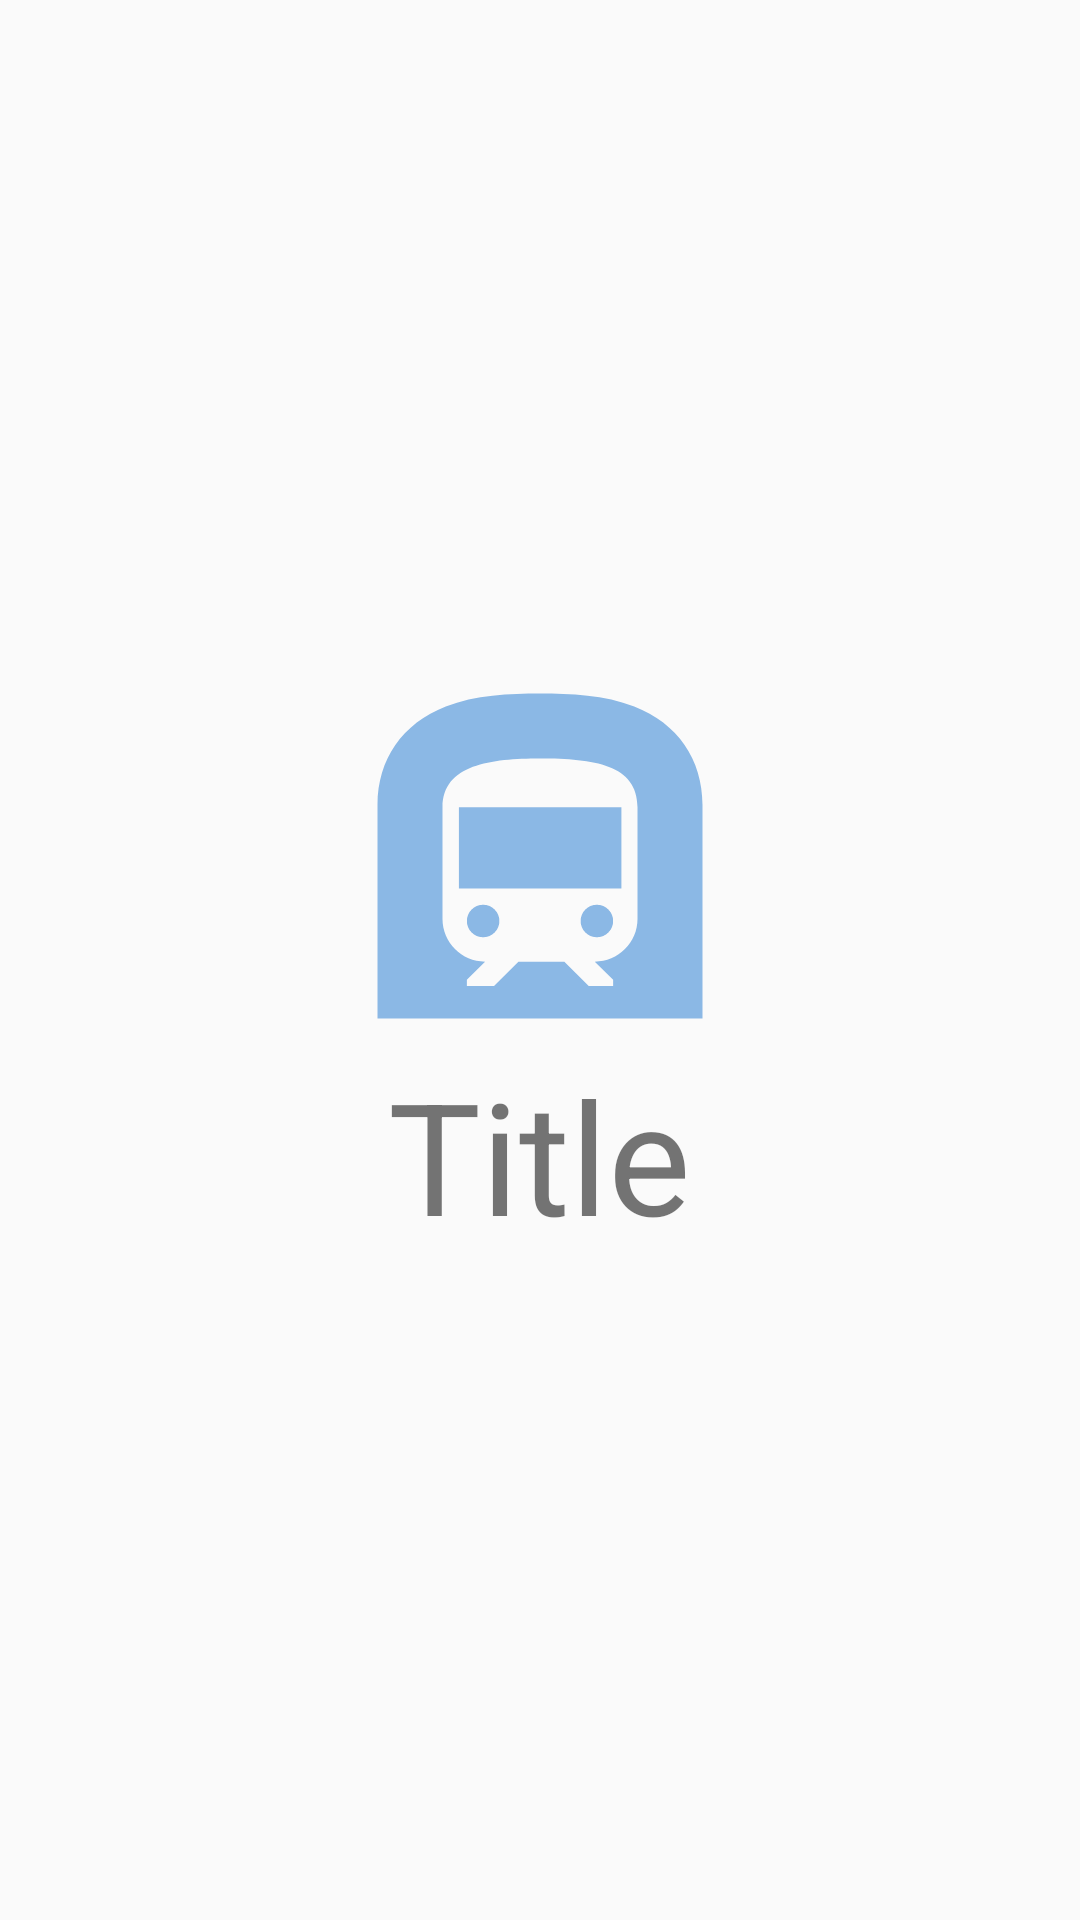

Icons on this 1080 × 1920 Android screen, each with its box as [x1,y1,x2,y2]:
subway: [377,693,703,1019]
